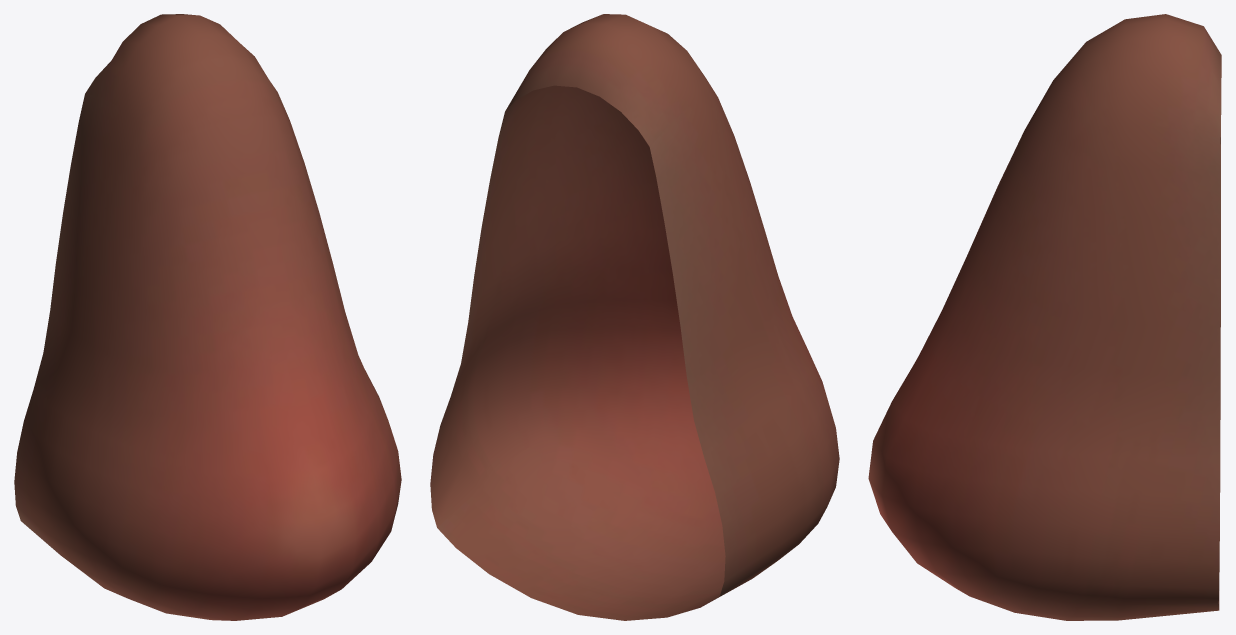
File: noose0.glb
3 views of the same model, side by side, from view 1: azimuth 30°, elevation 25°; view 2: azimuth 150°, elevation 25°; view 3: azimuth 270°, elevation 25° (orthographic). The views are drawn at different scales.
Visible parts, largest first — view 1: nose.000; view 2: nose.000; view 3: nose.000.
Part boxes in pixels (x1=…): nose.000: x1=14, y1=14, x2=401, y2=620; nose.000: x1=430, y1=14, x2=839, y2=620; nose.000: x1=868, y1=14, x2=1221, y2=620.
Size of the model in its own units: 0.1815 by 0.2993 by 0.1657.
1 material, 1 textured.
